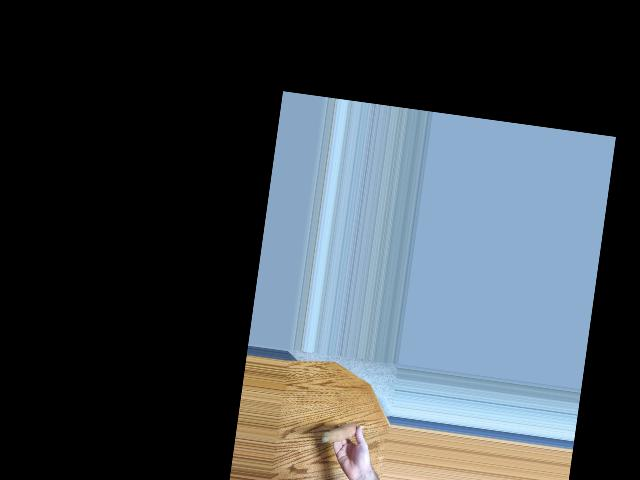sweet_potato: (320, 419, 359, 448)
